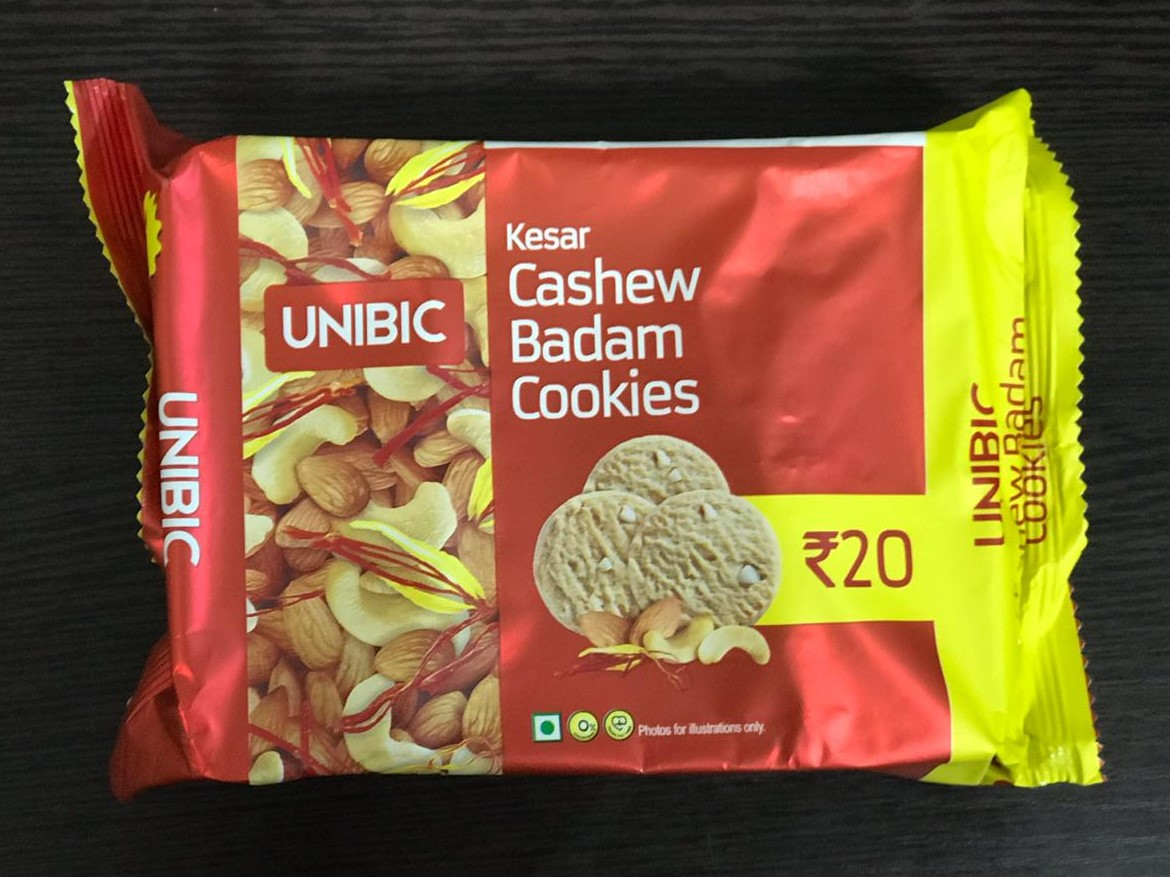VEG: (531, 710, 563, 744)
